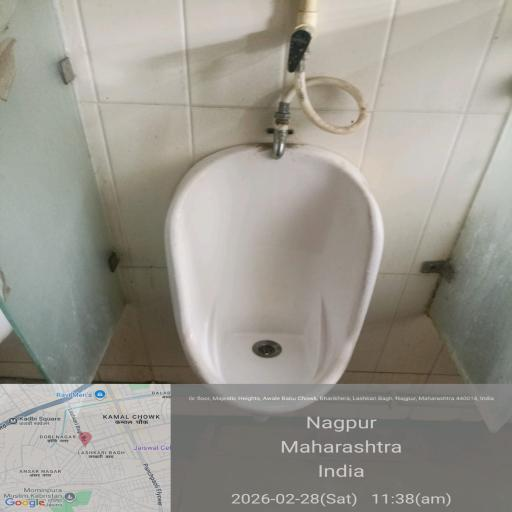clean_floor: (10, 8, 504, 144), (0, 140, 139, 512)
clean_urinal: (148, 130, 385, 444)
